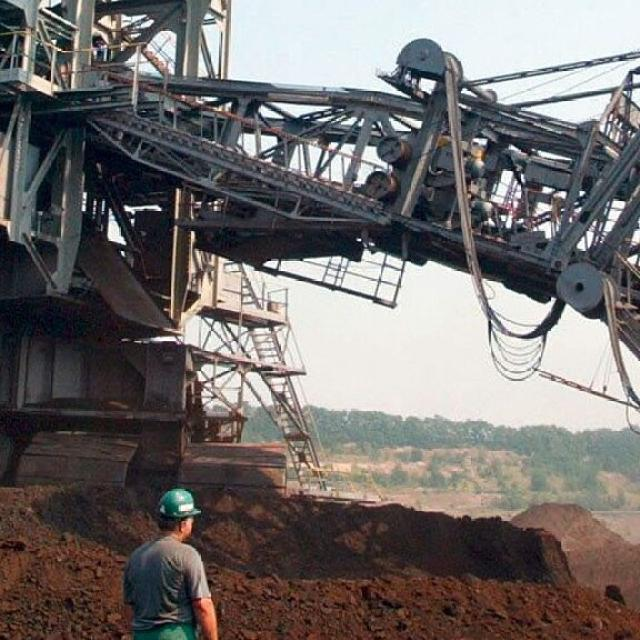person: (113, 489, 216, 640)
safety_helmet: (150, 484, 210, 515)
